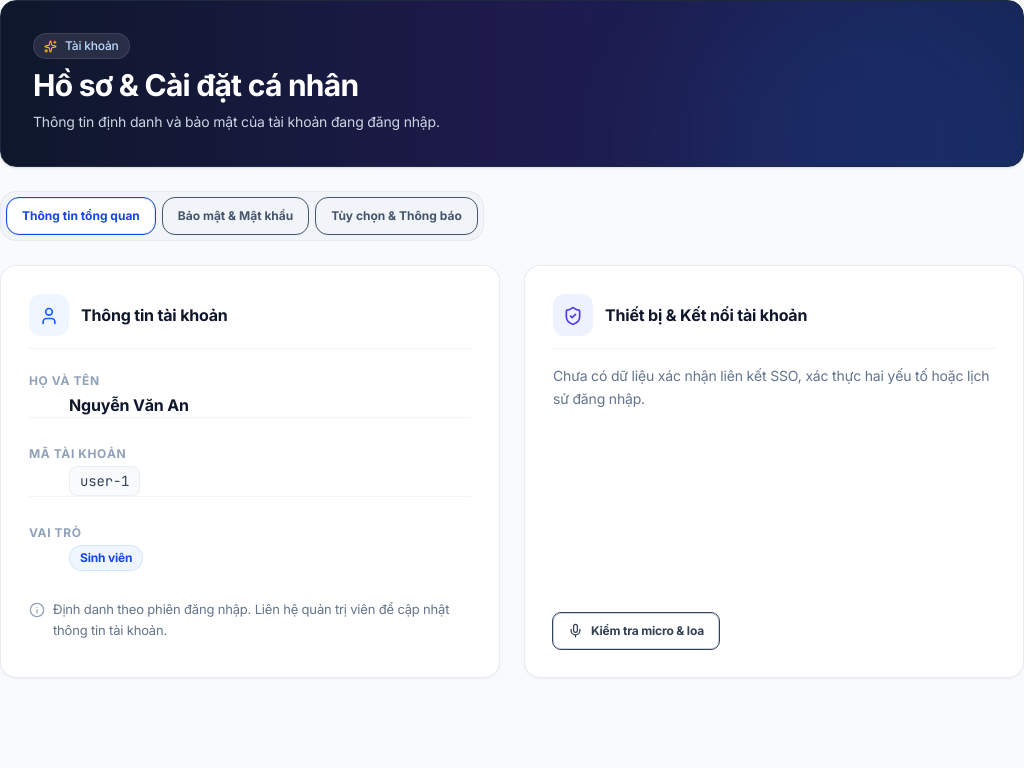
ProfilePage authority and persistence › never exposes demo editing or fake save success in API mode
Click the button "Tùy chọn & Thông báo": [397, 216] box x1=316 y1=198 x2=477 y2=234
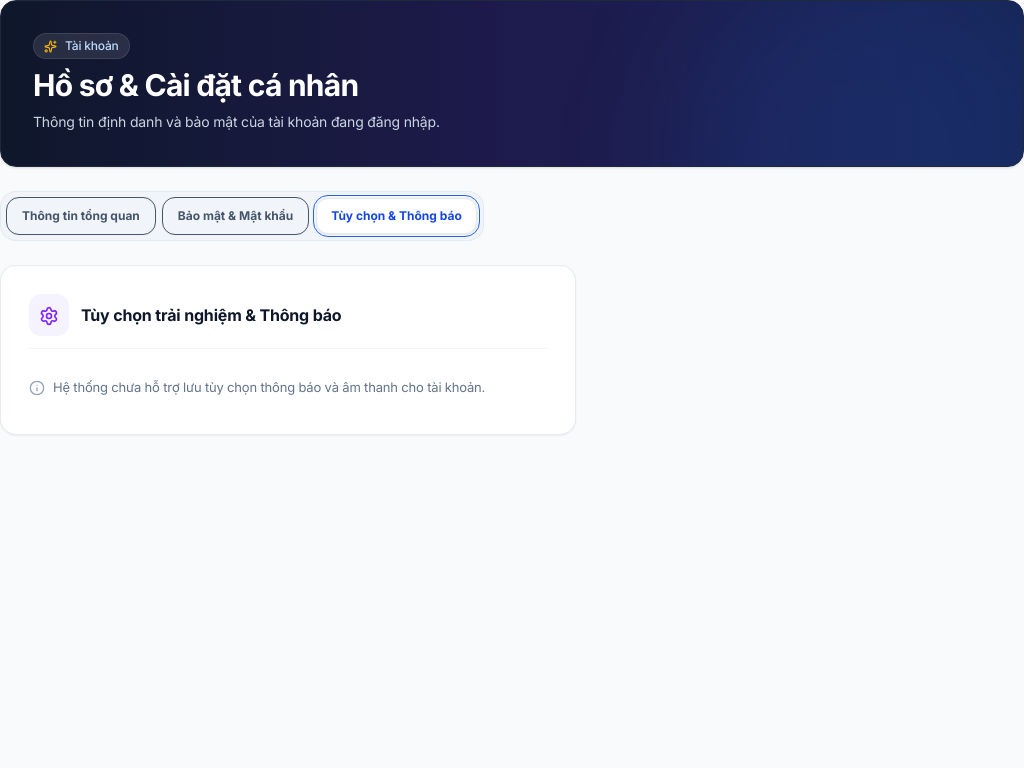
Now the text "chưa hỗ trợ lưu tùy chọn" is shown, box x1=53 y1=379 x2=485 y2=395
